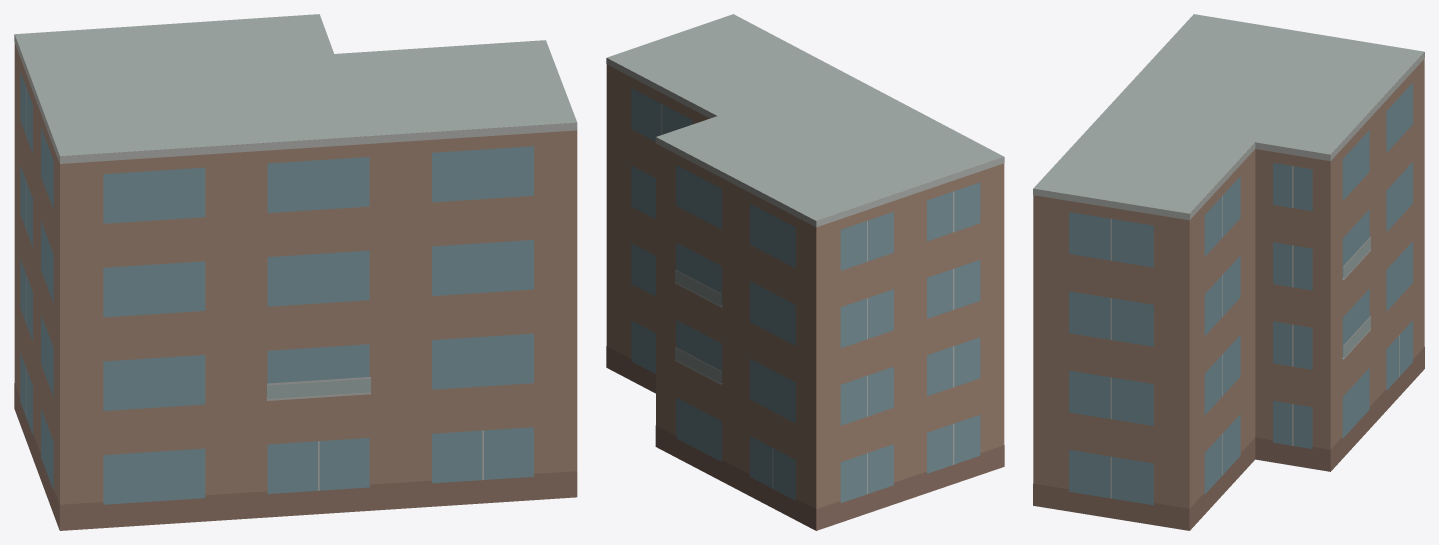
File: survey-upis-32880541.glb
The picture shows the model from 3 angles, left to right: view 1: azimuth 30°, elevation 25°; view 2: azimuth 150°, elevation 25°; view 3: azimuth 270°, elevation 25°; orthographic projection. The views are drawn at different scales.
Visible parts, largest first — view 1: survey-upis-32880541.tmp; view 2: survey-upis-32880541.tmp; view 3: survey-upis-32880541.tmp.
Part boxes in pixels (box(x1,y1,x2,y2)): survey-upis-32880541.tmp: box(14, 14, 577, 530); survey-upis-32880541.tmp: box(606, 14, 1004, 530); survey-upis-32880541.tmp: box(1033, 14, 1424, 530).
Size of the model in its own units: 15.95 by 11.8 by 13.22.
